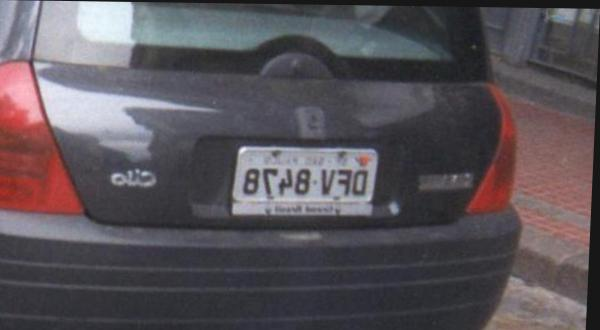License_Plate: (220, 141, 386, 222)
